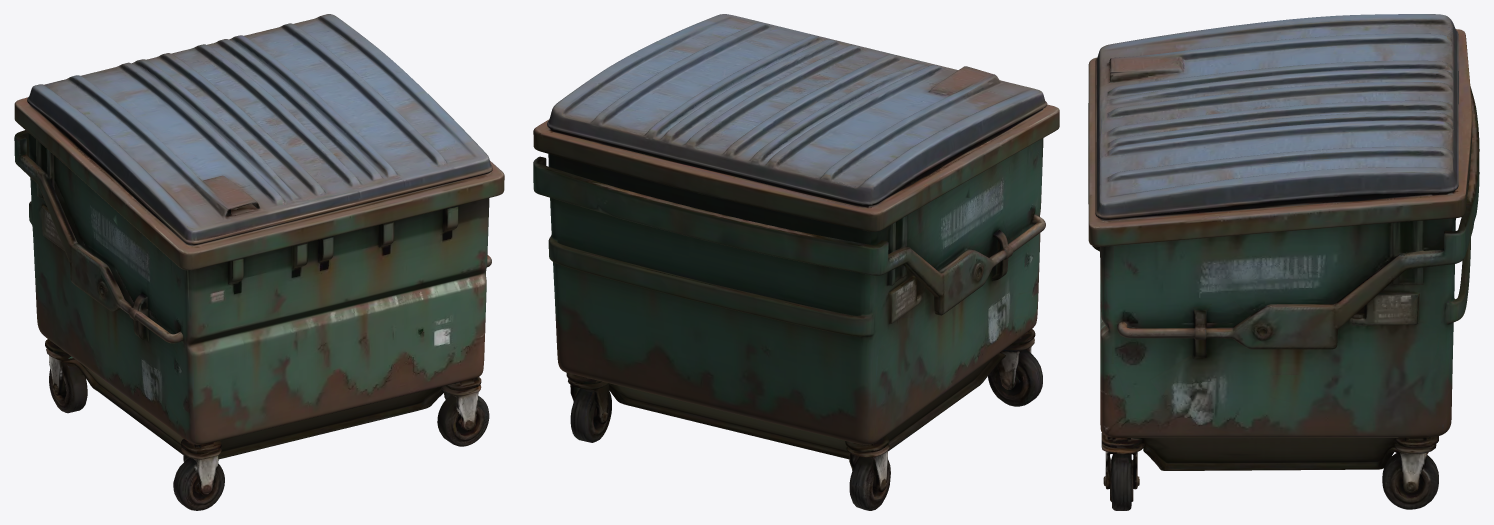
File: Rusted Green Steel Dumpster.glb
3 renders of one model, left to right at view 1: azimuth 30°, elevation 25°; view 2: azimuth 150°, elevation 25°; view 3: azimuth 270°, elevation 25°, orthographic. The views are drawn at different scales.
Visible parts, largest first — view 1: node_0; view 2: node_0; view 3: node_0.
Boxes of the visible parts, x1,y1,x2,y2 form: node_0: (14,14,504,510); node_0: (533,14,1059,510); node_0: (1088,14,1479,510).
Bounding box in the file's own units: 0.7852 × 0.728 × 0.7443.
1 material, 1 textured.
